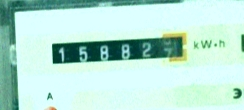1: (56, 44, 66, 61)
2: (140, 39, 151, 56)
5: (77, 43, 88, 59)
7: (162, 45, 172, 56)
8: (119, 41, 130, 58), (98, 43, 109, 59)
screen: (44, 25, 193, 72)
